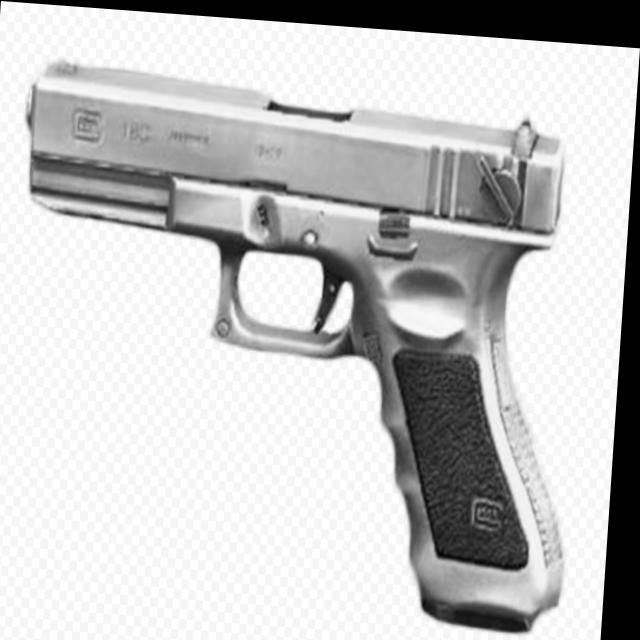handgun: (0, 57, 595, 624)
